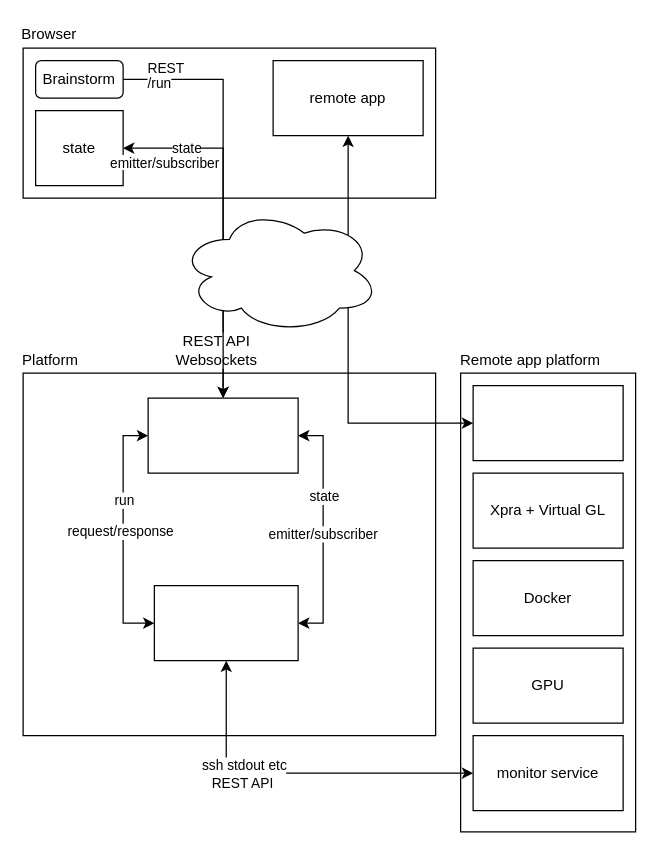
This 658x854 diagram has some shape labels left out. Here are the shapes that lost their labels. From the top down, the box of each, then its label:
(147, 397, 298, 473): gateway
(472, 384, 623, 461): App + Virtual GL
(153, 584, 298, 661): remote app service
